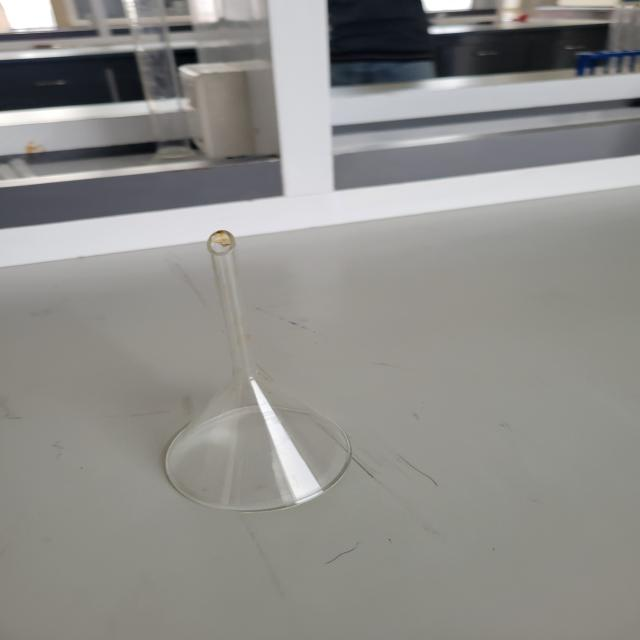Funnel: (115, 208, 394, 535)
